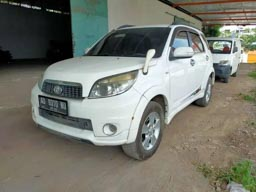plat: (39, 97, 66, 109)
